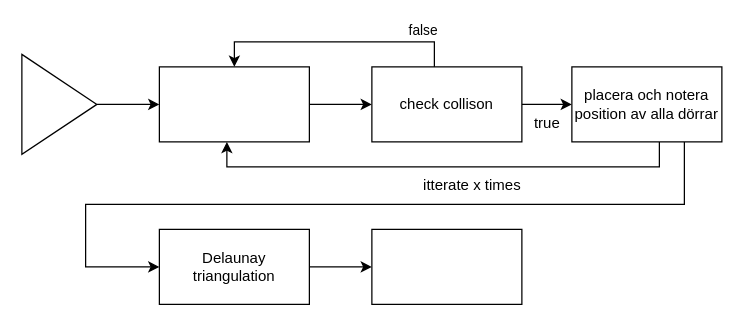
The diagram is 744 pixels wide and 326 high, and some of its shapes have lost their labels. The shapes that lost their labels are listed below. From the top down, each one's centre as x and y in pixels, then its label:
At pixel 233 104: "placera rum".
At pixel 446 266: "minimum spanning tree using prim's algorithm".
